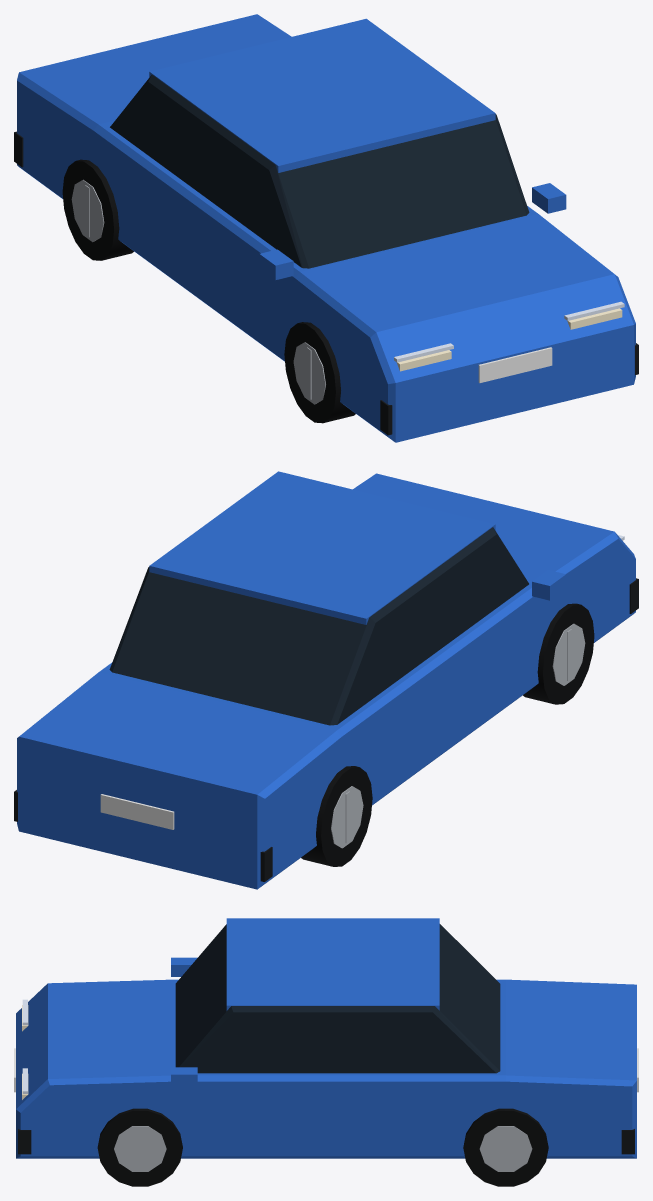
Rendered from sedan-test.glb.
3 renders of one model, top to bottom at view 1: azimuth 30°, elevation 25°; view 2: azimuth 150°, elevation 25°; view 3: azimuth 270°, elevation 25°, orthographic. The views are drawn at different scales.
Visible parts, largest first — view 1: Body, Wheel_RR, Wheel_FR; view 2: Body, Wheel_FR, Wheel_RR; view 3: Body, Wheel_FL, Wheel_RL.
Boxes of the visible parts, left/top/right/bottom form: Body: left=14, top=14, right=638, bottom=442; Wheel_RR: left=62, top=159, right=133, bottom=260; Wheel_FR: left=284, top=322, right=355, bottom=423; Body: left=14, top=471, right=638, bottom=889; Wheel_FR: left=523, top=603, right=594, bottom=704; Wheel_RR: left=301, top=766, right=372, bottom=866; Body: left=14, top=918, right=638, bottom=1158; Wheel_FL: left=97, top=1108, right=182, bottom=1186; Wheel_RL: left=463, top=1108, right=548, bottom=1186.
Size of the model in its own units: 2.08 by 1.44 by 4.7.
